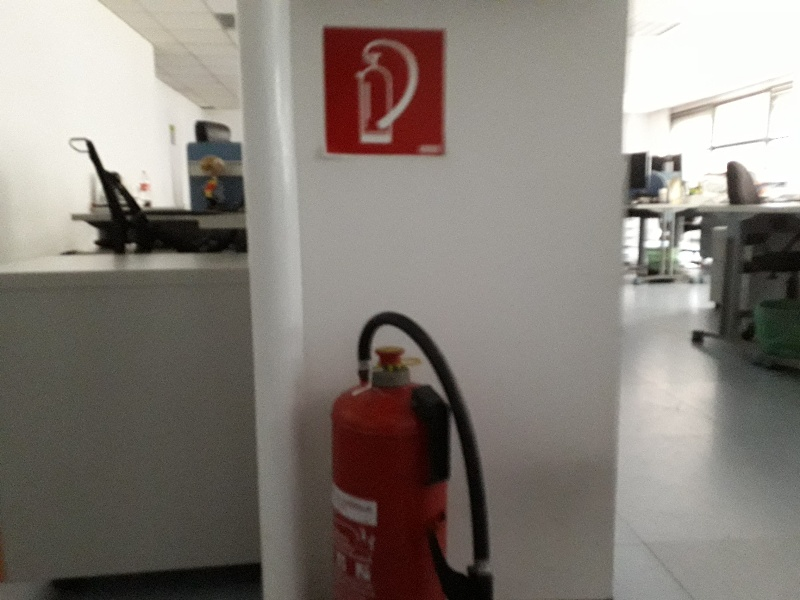vataparat: (329, 312, 491, 600)
